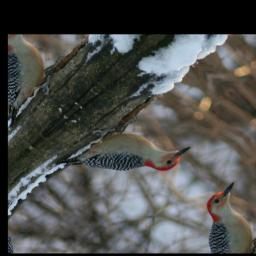Woodpecker: (56, 96, 195, 215)
